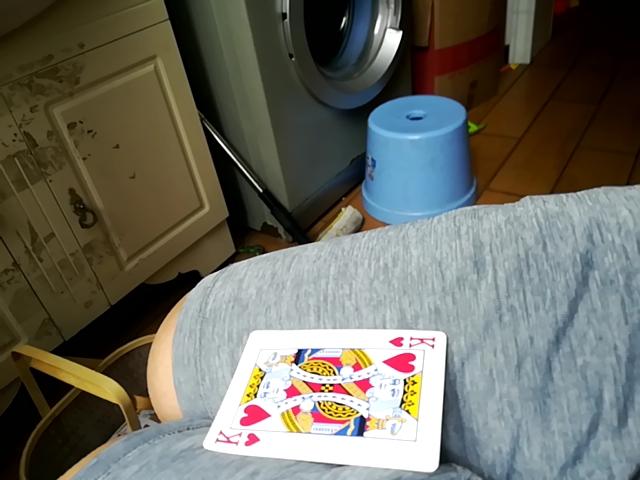hx k: (203, 326, 444, 474)
